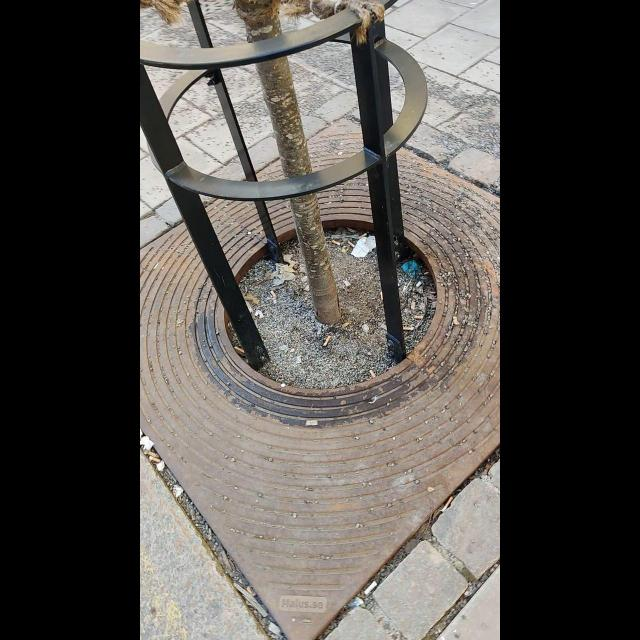cigarette: (363, 580, 377, 596), (441, 495, 453, 513), (304, 418, 320, 429), (324, 335, 333, 347), (145, 451, 157, 458), (358, 232, 368, 240), (452, 316, 460, 326), (233, 346, 246, 352), (347, 240, 356, 248), (331, 240, 342, 246), (369, 368, 376, 377), (148, 458, 162, 462), (270, 290, 278, 297), (344, 277, 350, 286), (414, 316, 425, 320), (402, 328, 415, 331), (411, 302, 415, 311)
